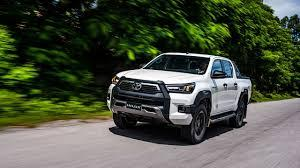toyota: (126, 79, 145, 94)
